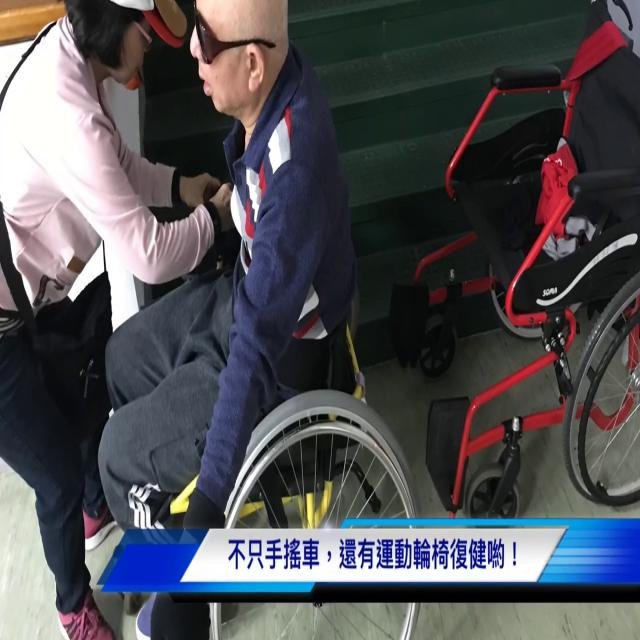wheelchairs: (394, 5, 640, 534), (130, 237, 436, 640)
